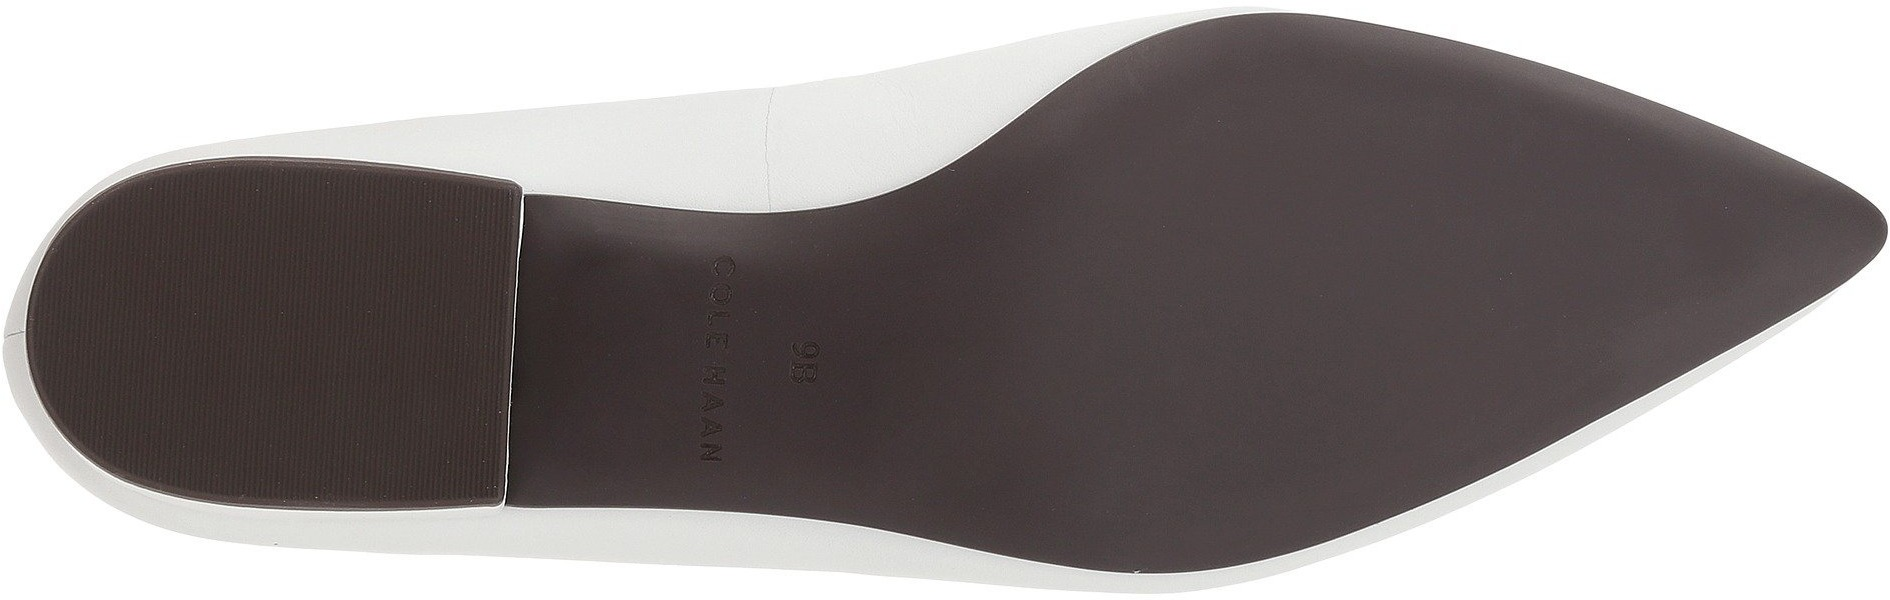other: (975, 161, 1260, 392), (260, 186, 504, 398), (1269, 86, 1514, 296), (1520, 133, 1741, 341), (1263, 301, 1465, 486), (64, 241, 256, 434), (1060, 402, 1217, 555), (1747, 180, 1843, 271)
